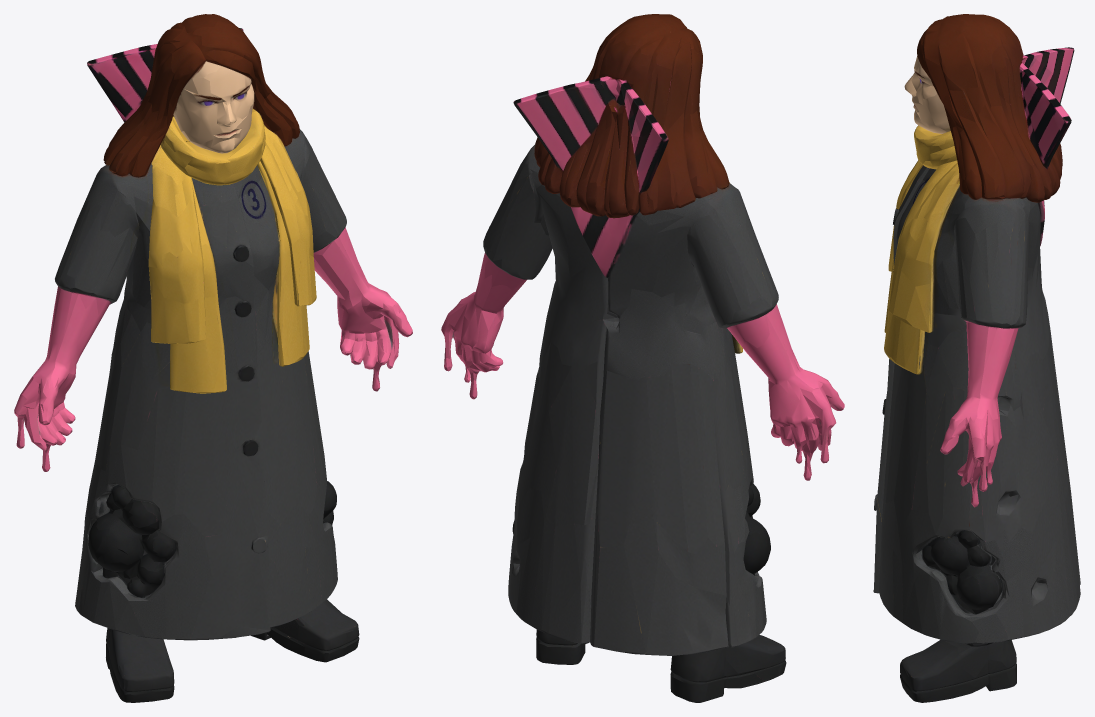
3 views of the same model, side by side, from view 1: azimuth 30°, elevation 25°; view 2: azimuth 150°, elevation 25°; view 3: azimuth 270°, elevation 25° (orthographic). The views are drawn at different scales.
Bounding box in the file's own units: 1.21 × 1.9 × 0.5703.
Materials: 1 (1 with a texture image).
